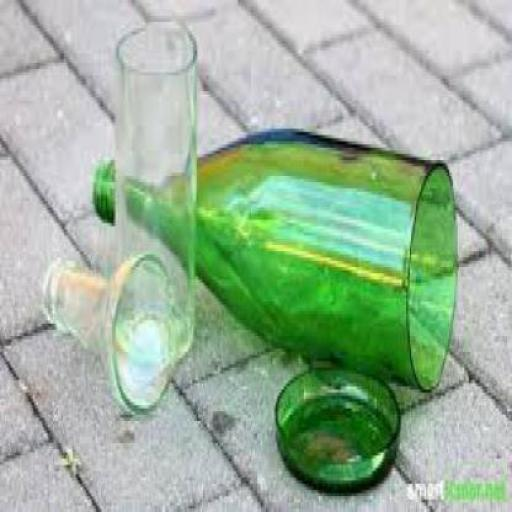glass: (93, 129, 456, 393), (114, 18, 195, 364), (41, 248, 172, 412), (274, 364, 400, 490)
